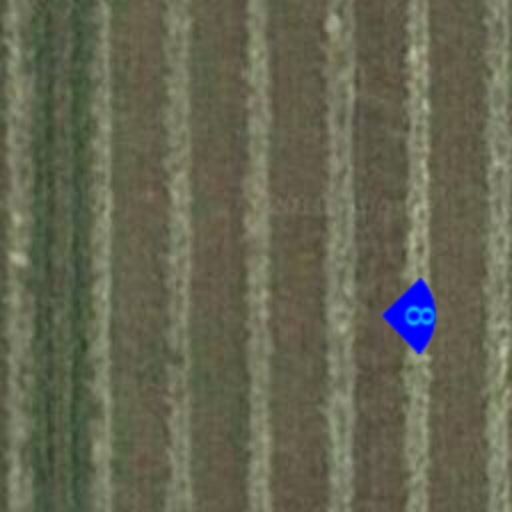quarter_circle: (376, 278, 452, 354)
